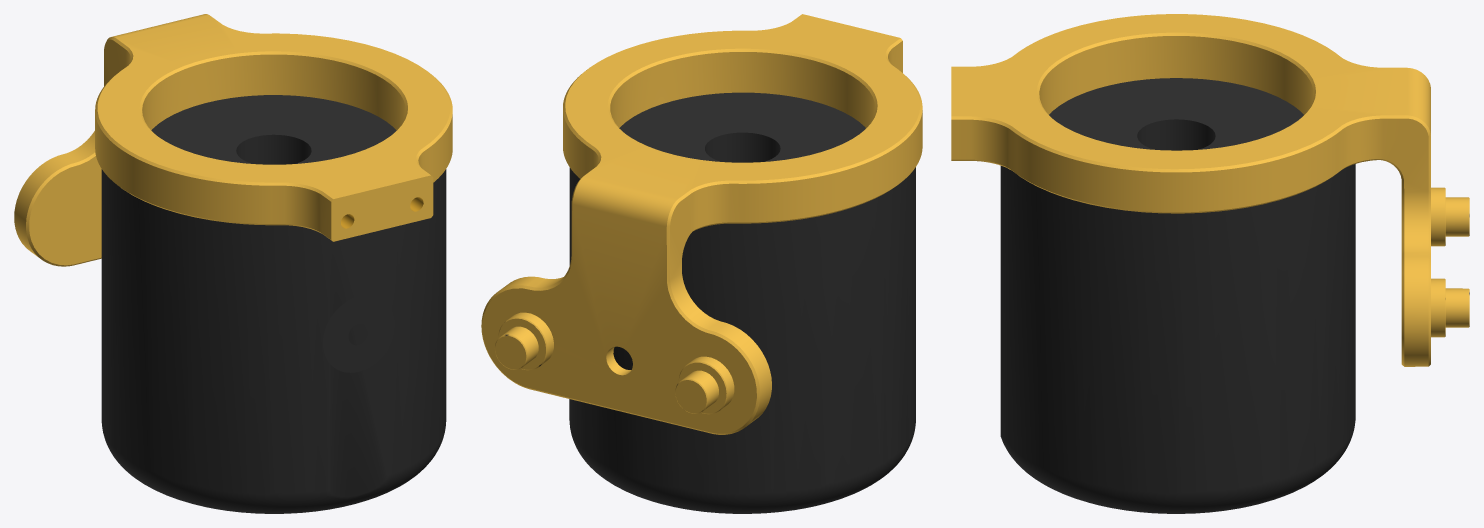
The picture shows the model from 3 angles, left to right: view 1: azimuth 30°, elevation 25°; view 2: azimuth 150°, elevation 25°; view 3: azimuth 270°, elevation 25°; orthographic projection. The views are drawn at different scales.
Parts seen in each view (by area): view 1: arml6; view 2: arml6; view 3: arml6.
Part boxes in pixels (<box>): arml6: <box>14,14,452,513</box>; arml6: <box>481,14,922,513</box>; arml6: <box>951,14,1469,513</box>.
Size of the model in its own units: 0.076 by 0.081 by 0.1059.
1 material, 1 textured.
